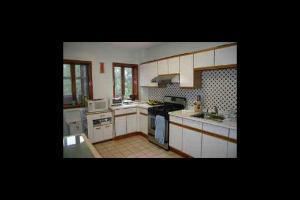Electrodomestico: (147, 111, 168, 146)
Lavaplatos: (189, 105, 226, 126)
